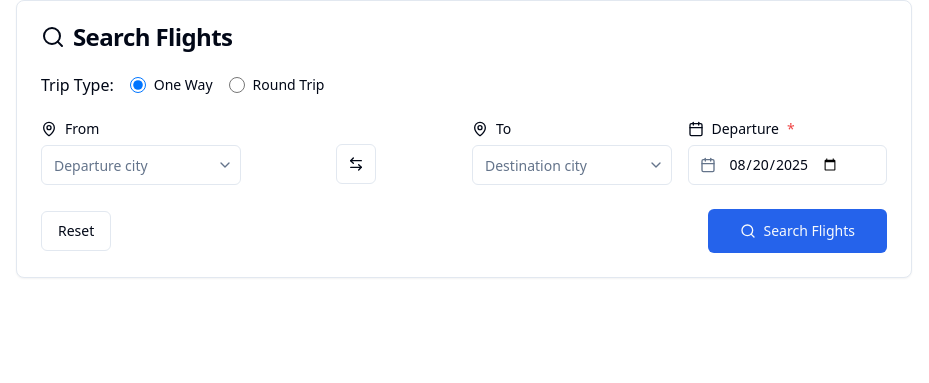
Test case: FlightSearchForm › shows return date field when round trip is selected
Click the radio button labelled "Round Trip" at (237, 85), box [229,77,245,93]
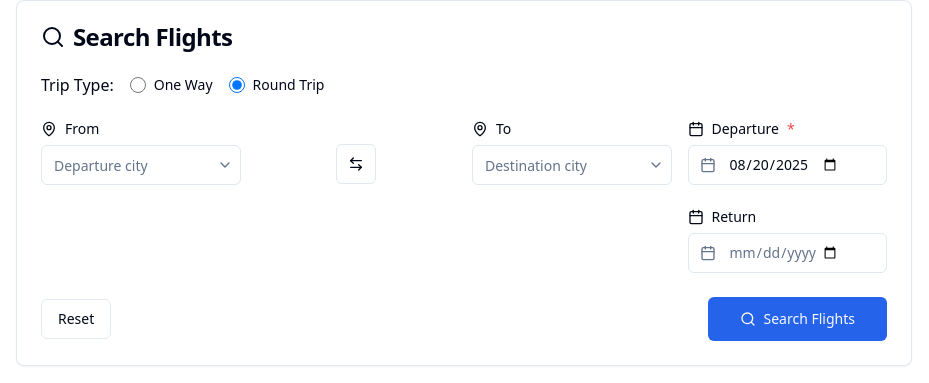
Expected: the date field labelled "Return" is shown, [688,233,887,273]
